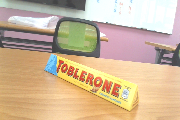Chocolate: (35, 52, 149, 115)
